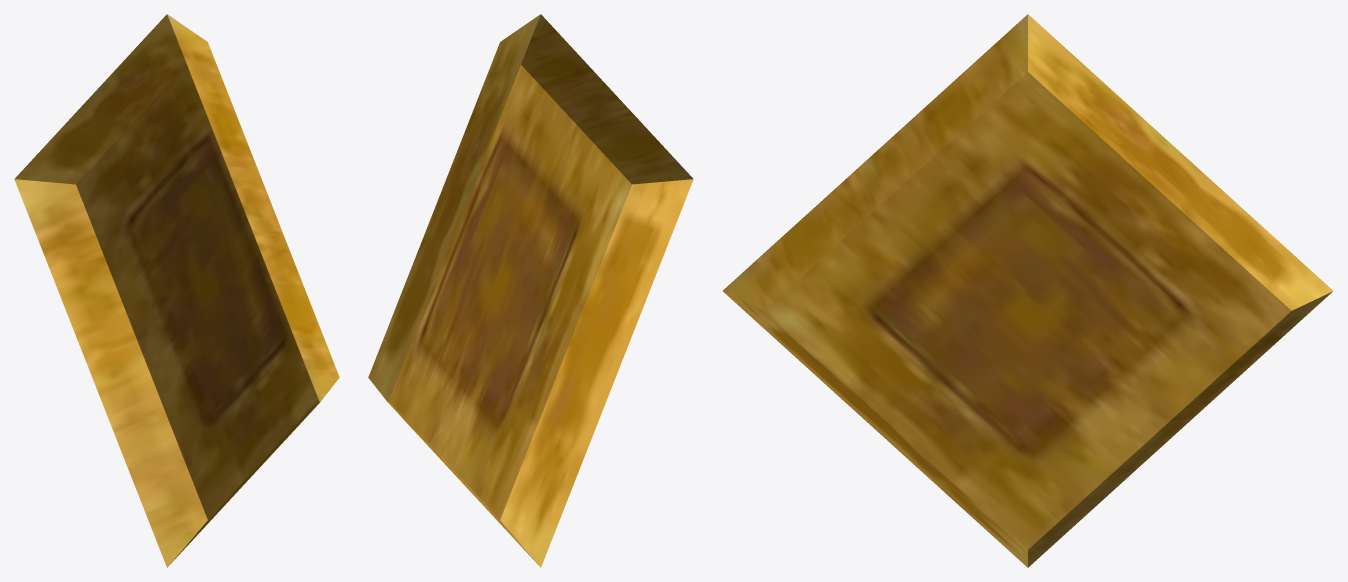
3 views of the same model, side by side, from view 1: azimuth 30°, elevation 25°; view 2: azimuth 150°, elevation 25°; view 3: azimuth 270°, elevation 25° (orthographic).
Visible parts, largest first — view 1: SM_Dragonkin_Pipe_Union_02_v1_LOD0; view 2: SM_Dragonkin_Pipe_Union_02_v1_LOD0; view 3: SM_Dragonkin_Pipe_Union_02_v1_LOD0.
Boxes of the visible parts, <box> form: SM_Dragonkin_Pipe_Union_02_v1_LOD0: <box>14,14,339,567</box>; SM_Dragonkin_Pipe_Union_02_v1_LOD0: <box>368,14,693,567</box>; SM_Dragonkin_Pipe_Union_02_v1_LOD0: <box>723,14,1332,567</box>.
Size of the model in its own units: 0.046 by 0.5969 by 0.5969.
1 material, 1 textured.
